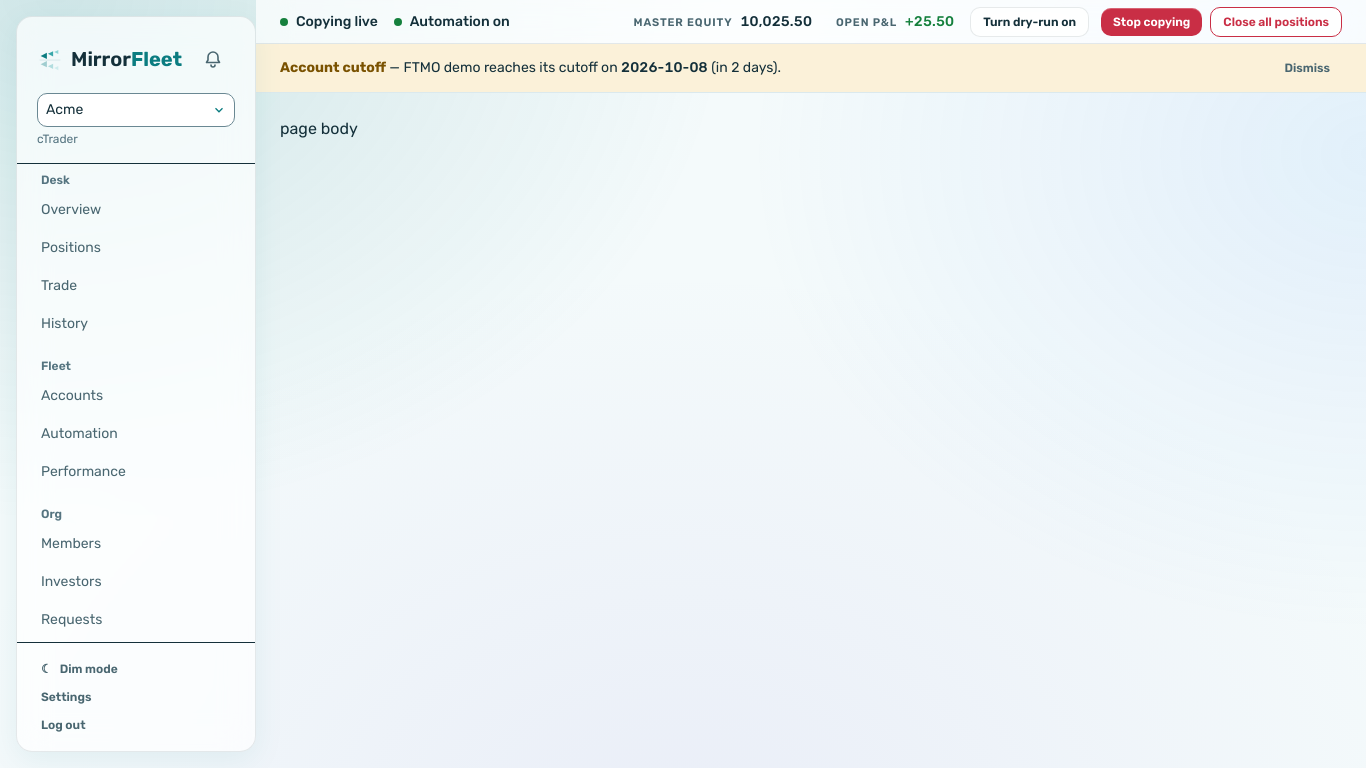
it: dismissing the cutoff banner hides it
Expected: the text "Account cutoff" is shown, [280,59,386,76]
Click the button "Dismiss" at (1307, 68), box [1272,54,1342,82]
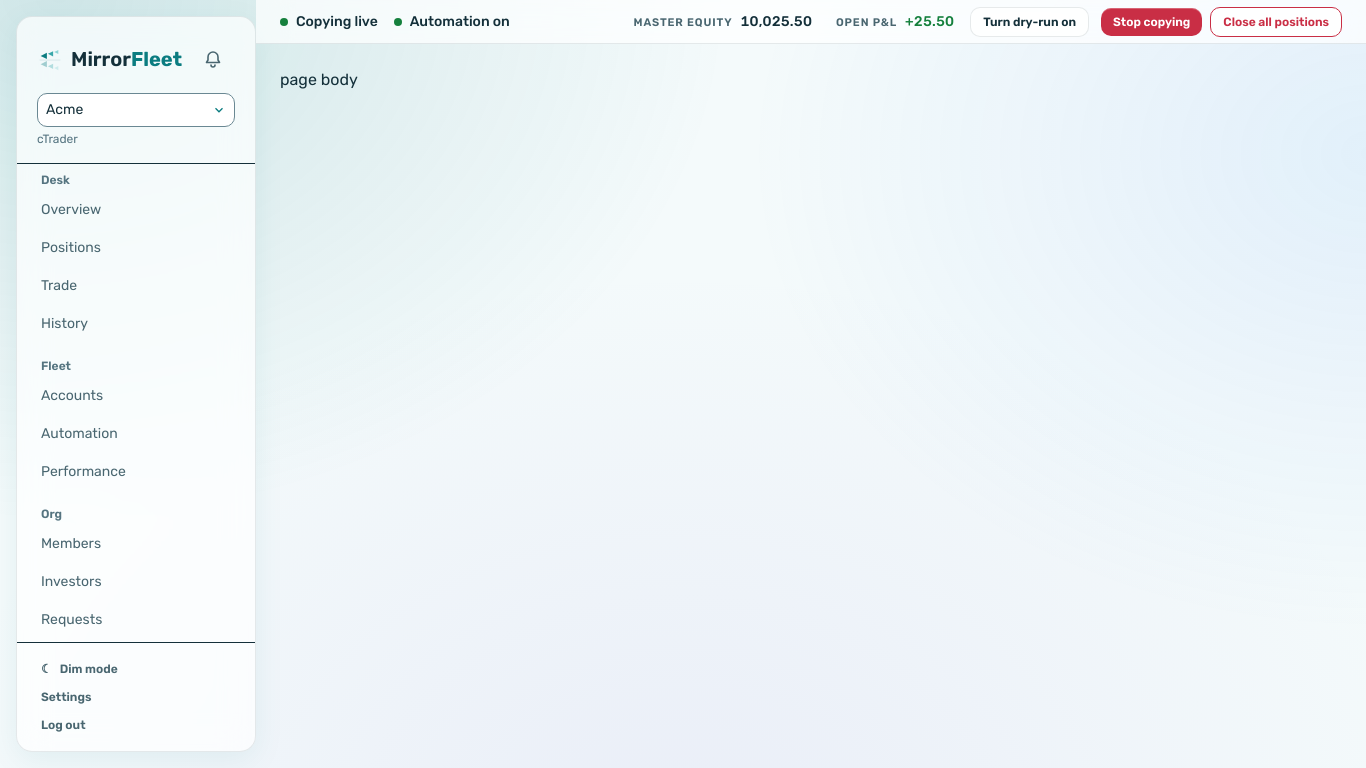
Now the text "Account cutoff" is gone
